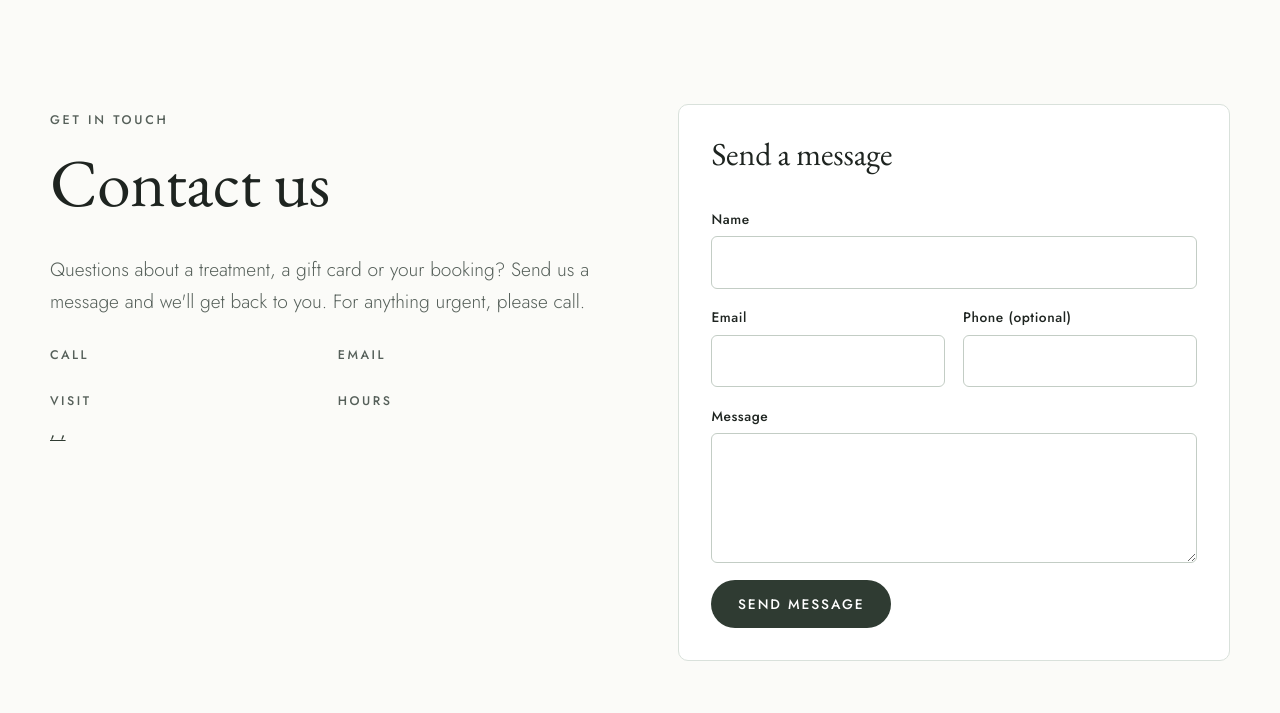
Scenario: Contact form › shows field errors from the API
Type "Grace Hopper" into the field labelled "Name" at x=954, y=262, box [711,236,1197,289]
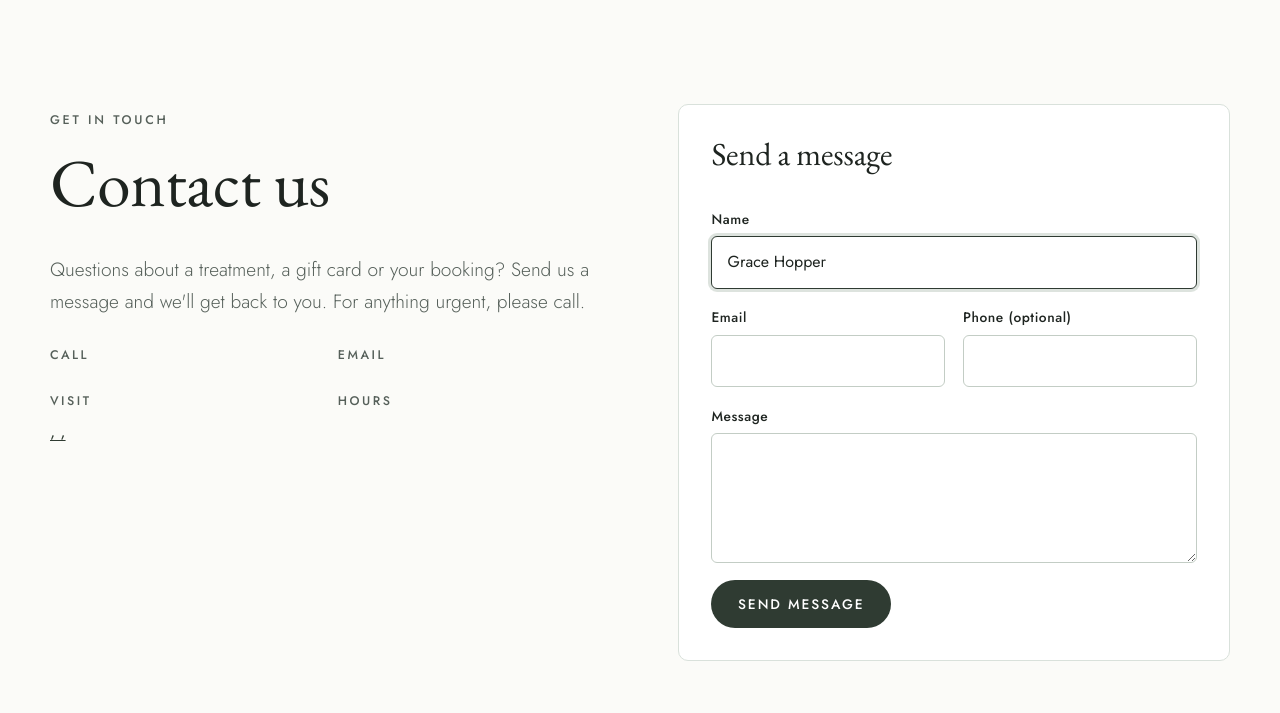
Type "grace@example.com" into the field labelled "Email" at x=828, y=361, box [711,335,945,387]
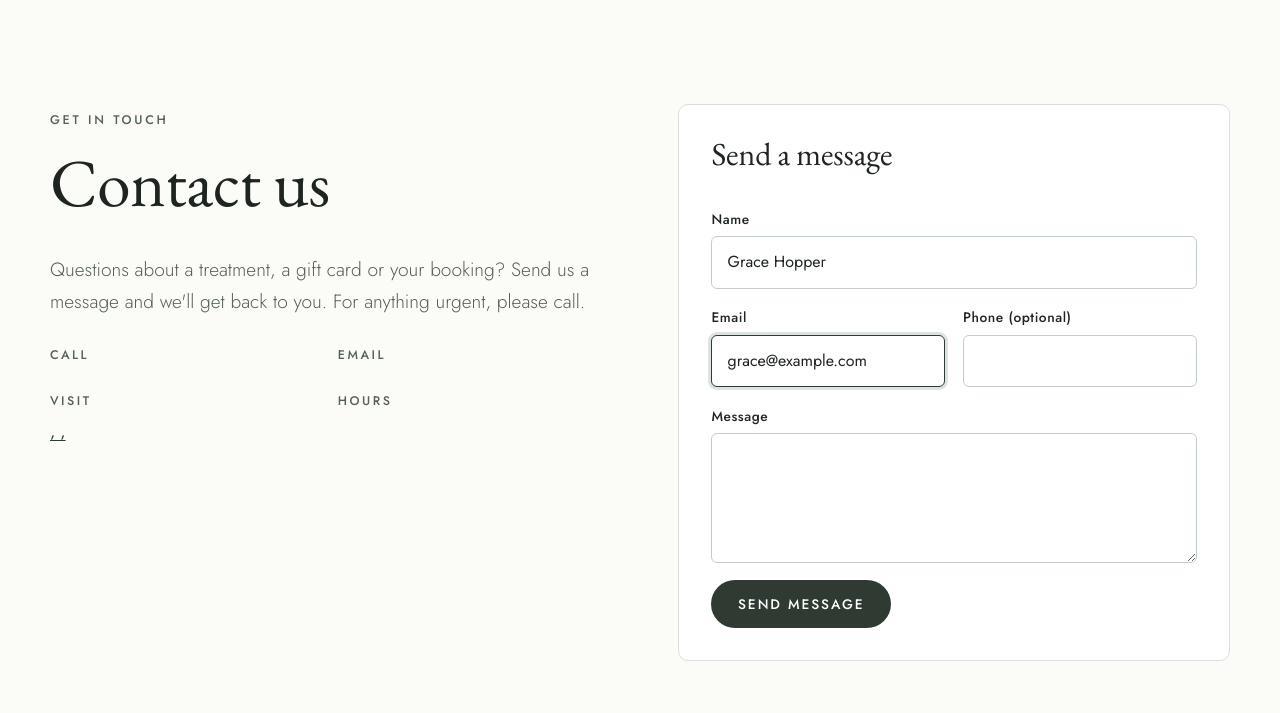
Type "Do you have parking?" into the text box labelled "Message" at x=954, y=498, box [711,433,1197,563]
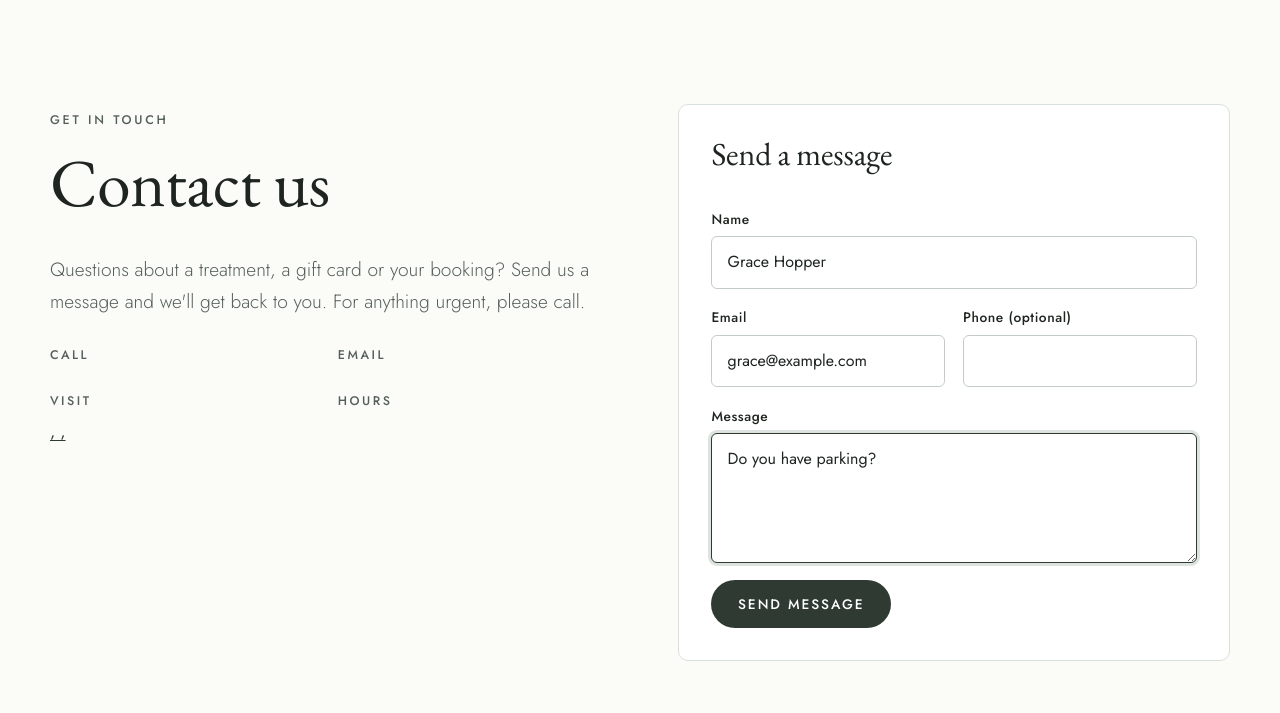
Click the button "Send message" at x=801, y=604, box [711,580,891,628]
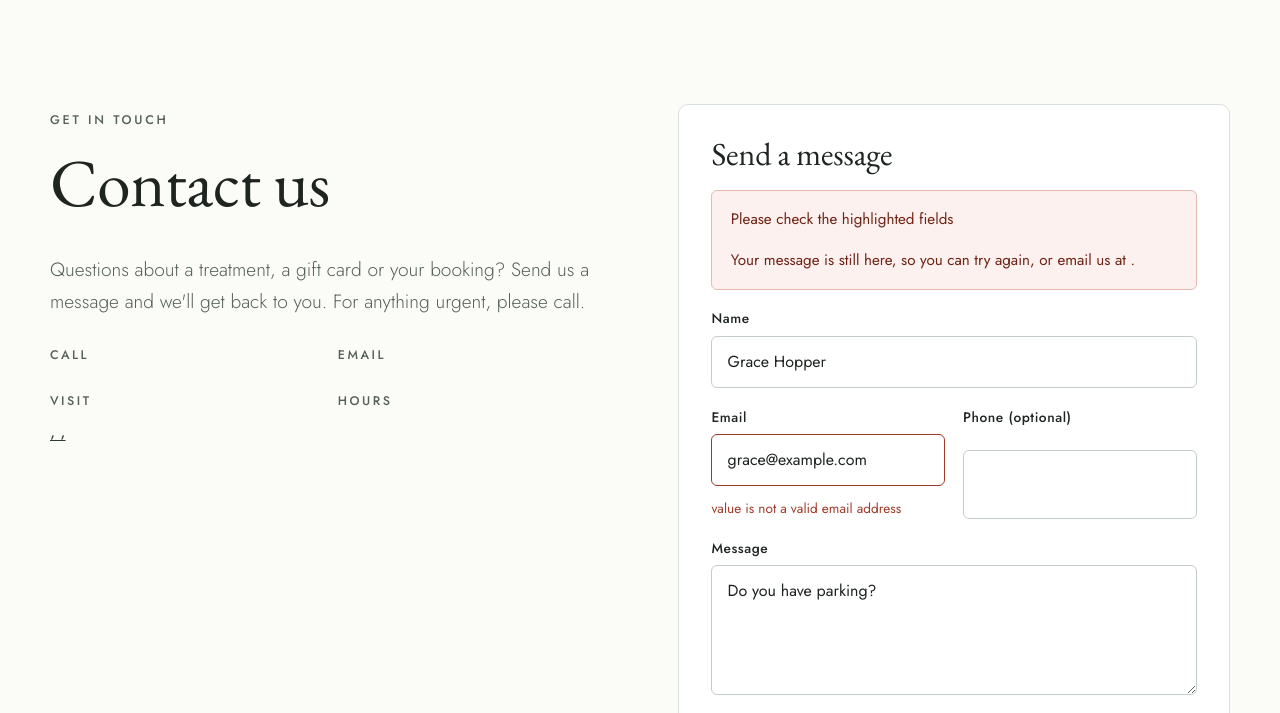
Result: the text "value is not a valid email address" is shown at [711,498,901,518]
